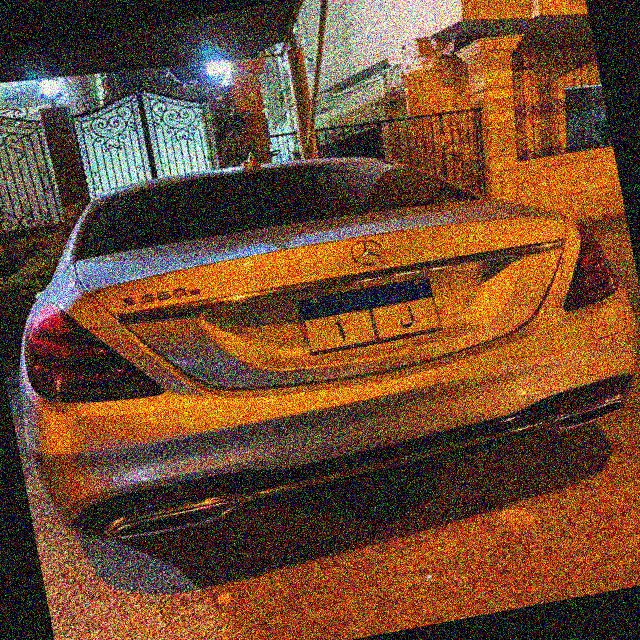License Plate: (293, 272, 447, 358)
